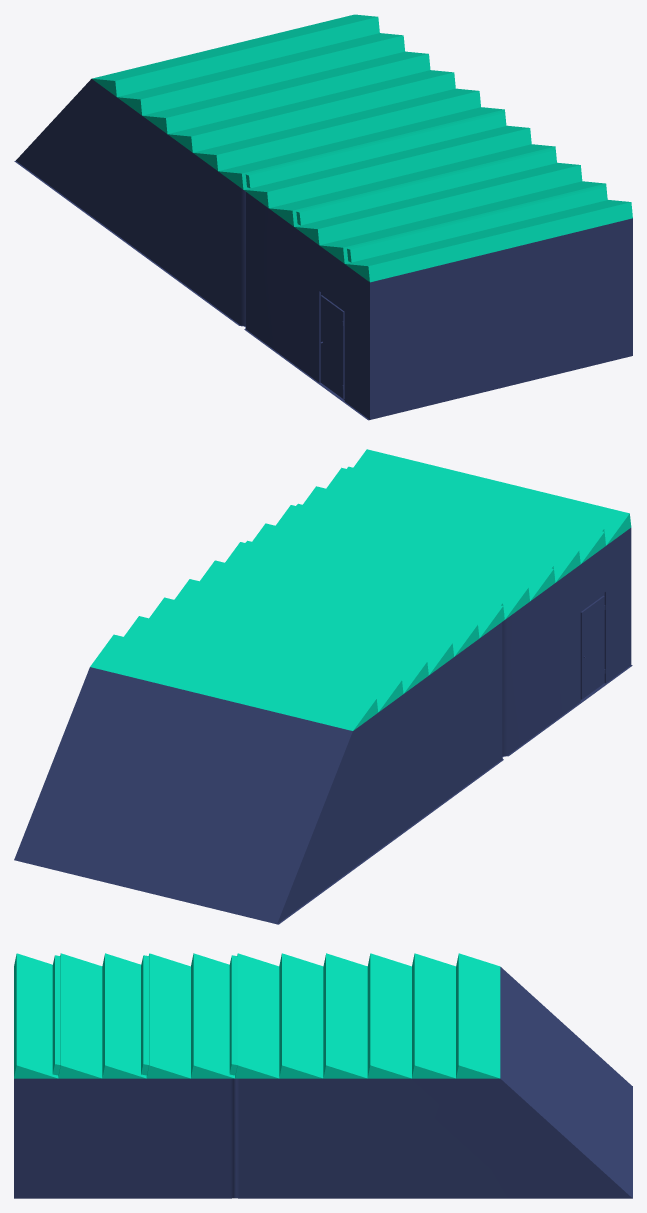
File: Shooting range 3.0.fbx
The picture shows the model from 3 angles, top to bottom: view 1: azimuth 30°, elevation 25°; view 2: azimuth 150°, elevation 25°; view 3: azimuth 270°, elevation 25°; orthographic projection. The views are drawn at different scales.
Parts seen in each view (by area): view 1: roof, left_wall, back_wall, floor; view 2: roof, front_wall, left_wall, floor; view 3: right_wall, roof, front_wall.
Part boxes in pixels (left/top/right/bottom): roof: left=92, top=14, right=632, bottom=282; left_wall: left=16, top=79, right=369, bottom=419; back_wall: left=370, top=218, right=632, bottom=419; floor: left=14, top=161, right=369, bottom=420; roof: left=90, top=449, right=631, bottom=730; front_wall: left=14, top=667, right=352, bottom=924; left_wall: left=277, top=528, right=631, bottom=923; floor: left=277, top=665, right=632, bottom=924; right_wall: left=14, top=1078, right=632, bottom=1198; roof: left=14, top=953, right=500, bottom=1078; front_wall: left=500, top=967, right=632, bottom=1198.
Bounding box in the file's own units: 6037 × 3350 × 14000.
